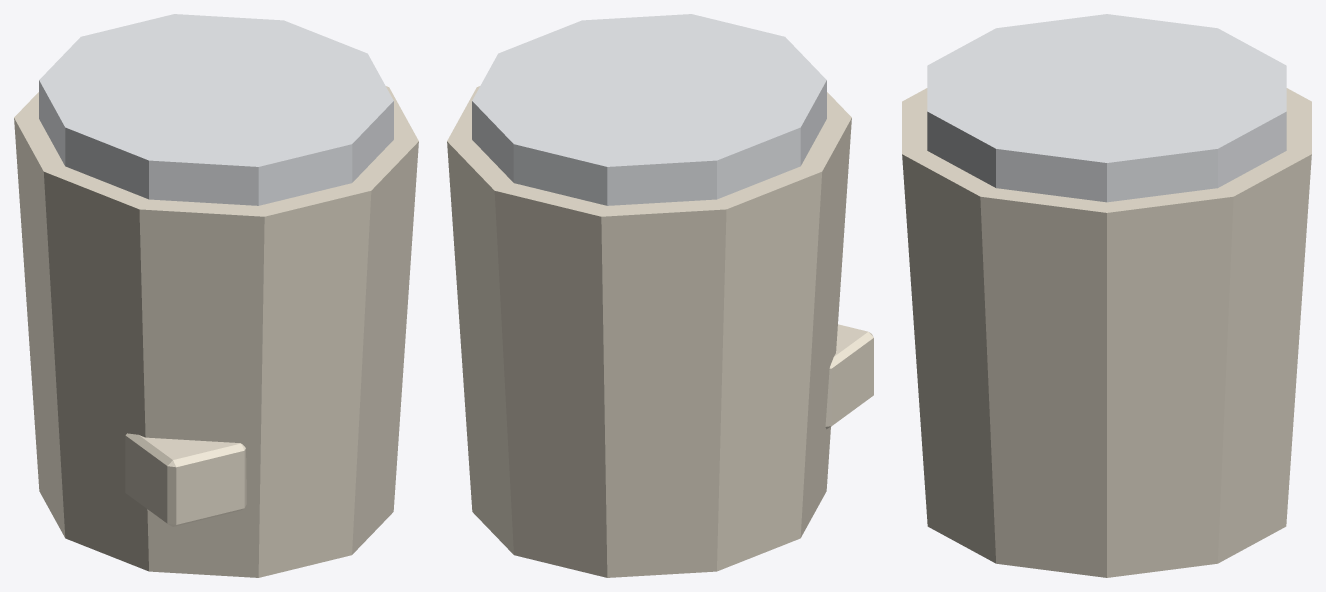
File: b17_tripod_folding_camp_stool.glb
3 views of the same model, side by side, from view 1: azimuth 30°, elevation 25°; view 2: azimuth 150°, elevation 25°; view 3: azimuth 270°, elevation 25° (orthographic).
Visible parts, largest first — view 1: b17_tripod_folding_camp_stool; view 2: b17_tripod_folding_camp_stool; view 3: b17_tripod_folding_camp_stool.
Boxes of the visible parts, box(x1,y1,x2,y2) form: b17_tripod_folding_camp_stool: box(14, 14, 418, 577); b17_tripod_folding_camp_stool: box(447, 14, 873, 577); b17_tripod_folding_camp_stool: box(902, 14, 1311, 577).
Bounding box in the file's own units: 0.394 × 0.448 × 0.401.
